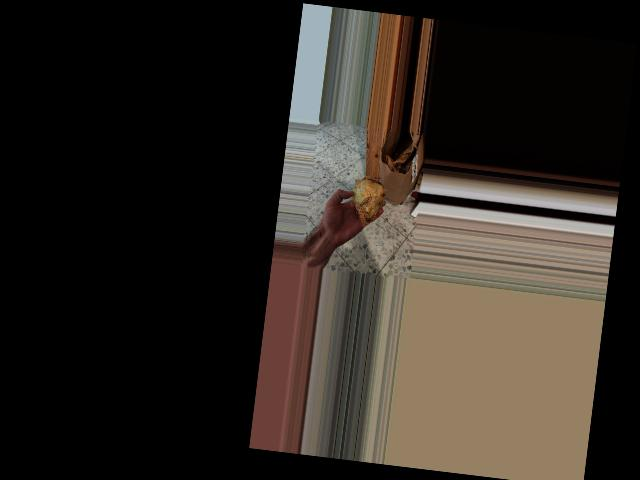onion: (343, 173, 389, 228)
